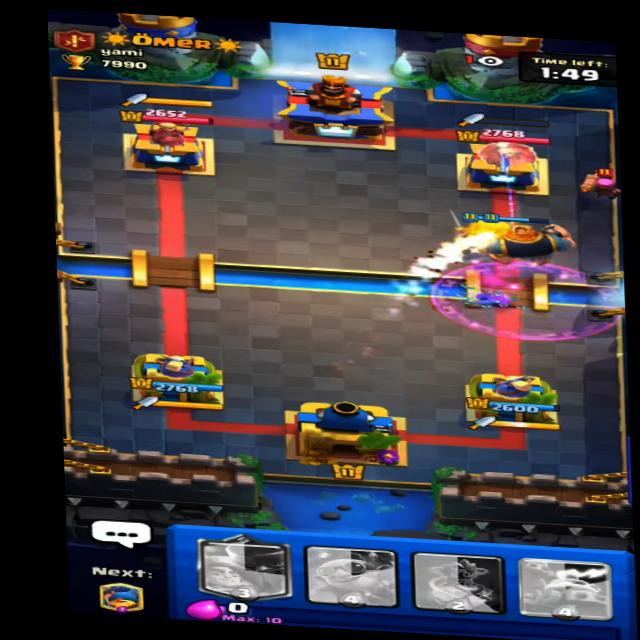firecracker: (564, 161, 623, 206)
rage: (425, 256, 614, 346)
